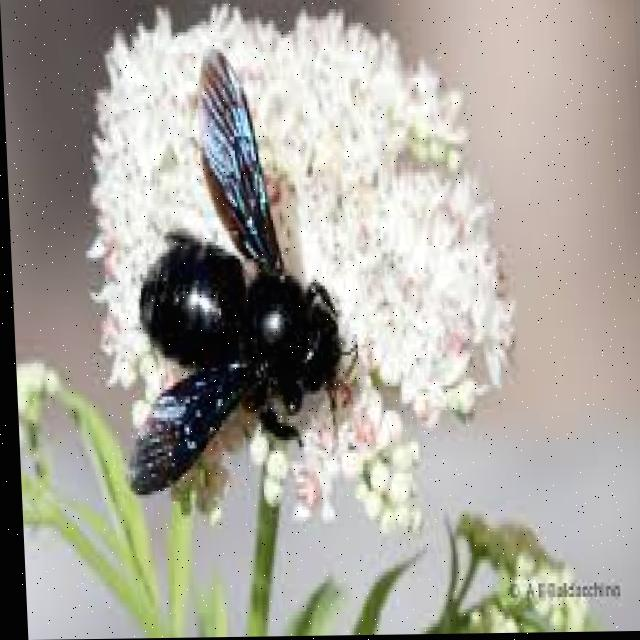Xylocopa: (109, 37, 359, 522)
